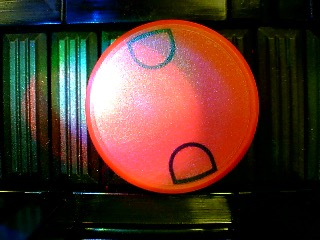MIPO2: (86, 19, 259, 194)
